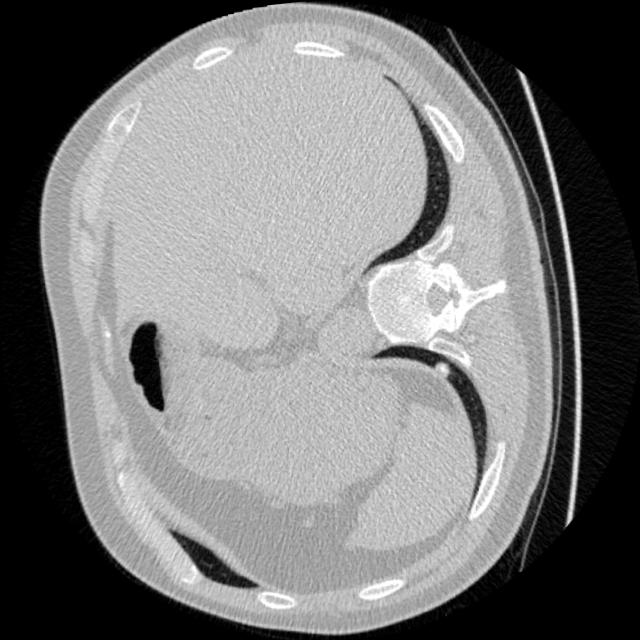nodule: (424, 348, 459, 382)
